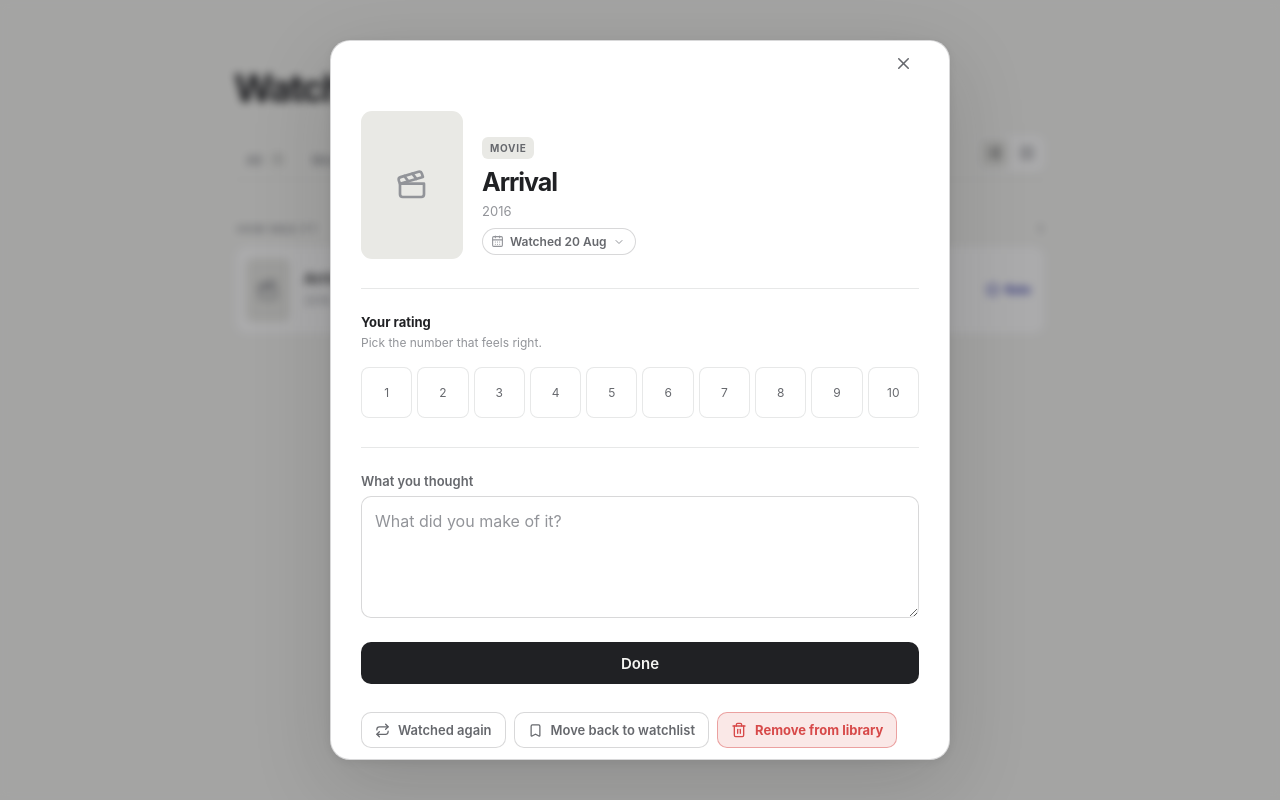
Scenario: LibraryView DetailSheet Watched again › posts a new occurrence and shows it in the list
Expected: the dialog "Arrival" is shown, [330,40,950,760]
Click the button "Watched again" at (433, 730), box [361,712,506,748]
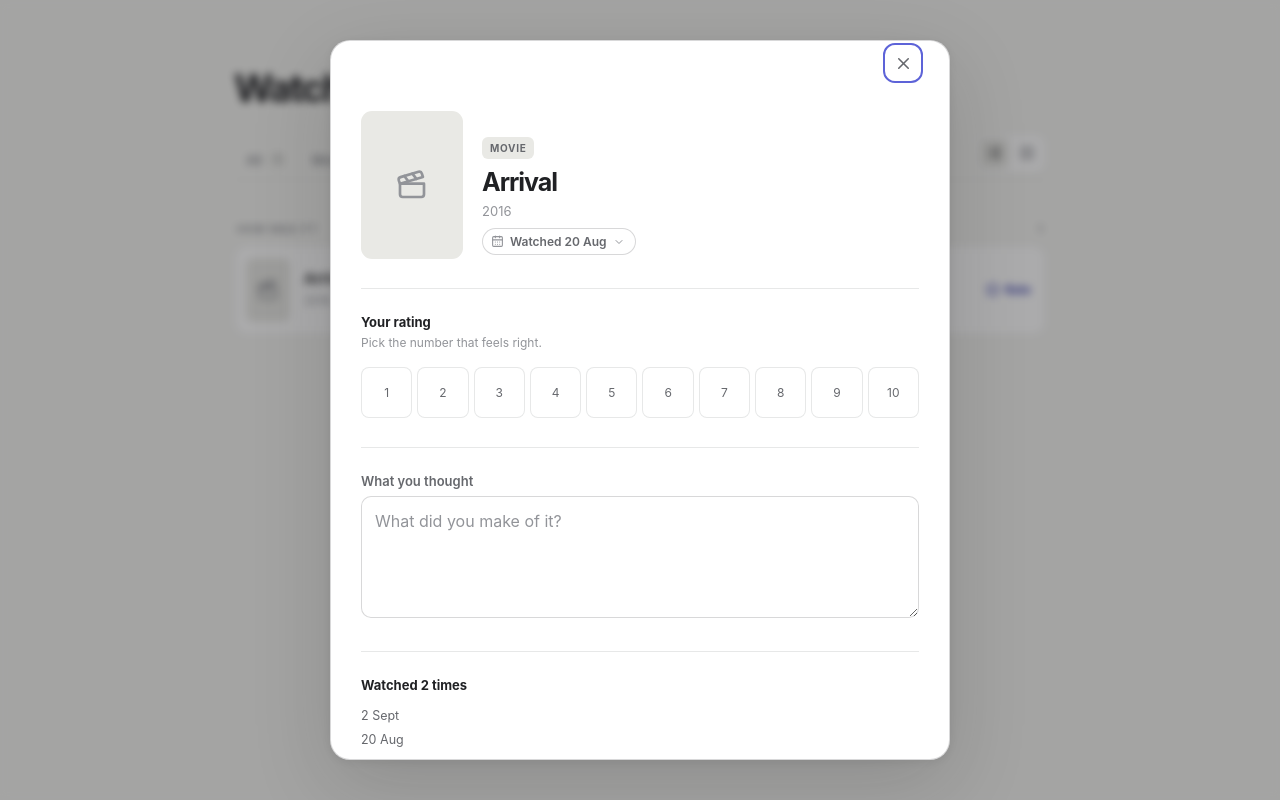
Expected: the heading "Watched 2 times" is shown, [361,677,467,693]
Expected: the text "20 Aug" is shown, [361,732,404,747]
